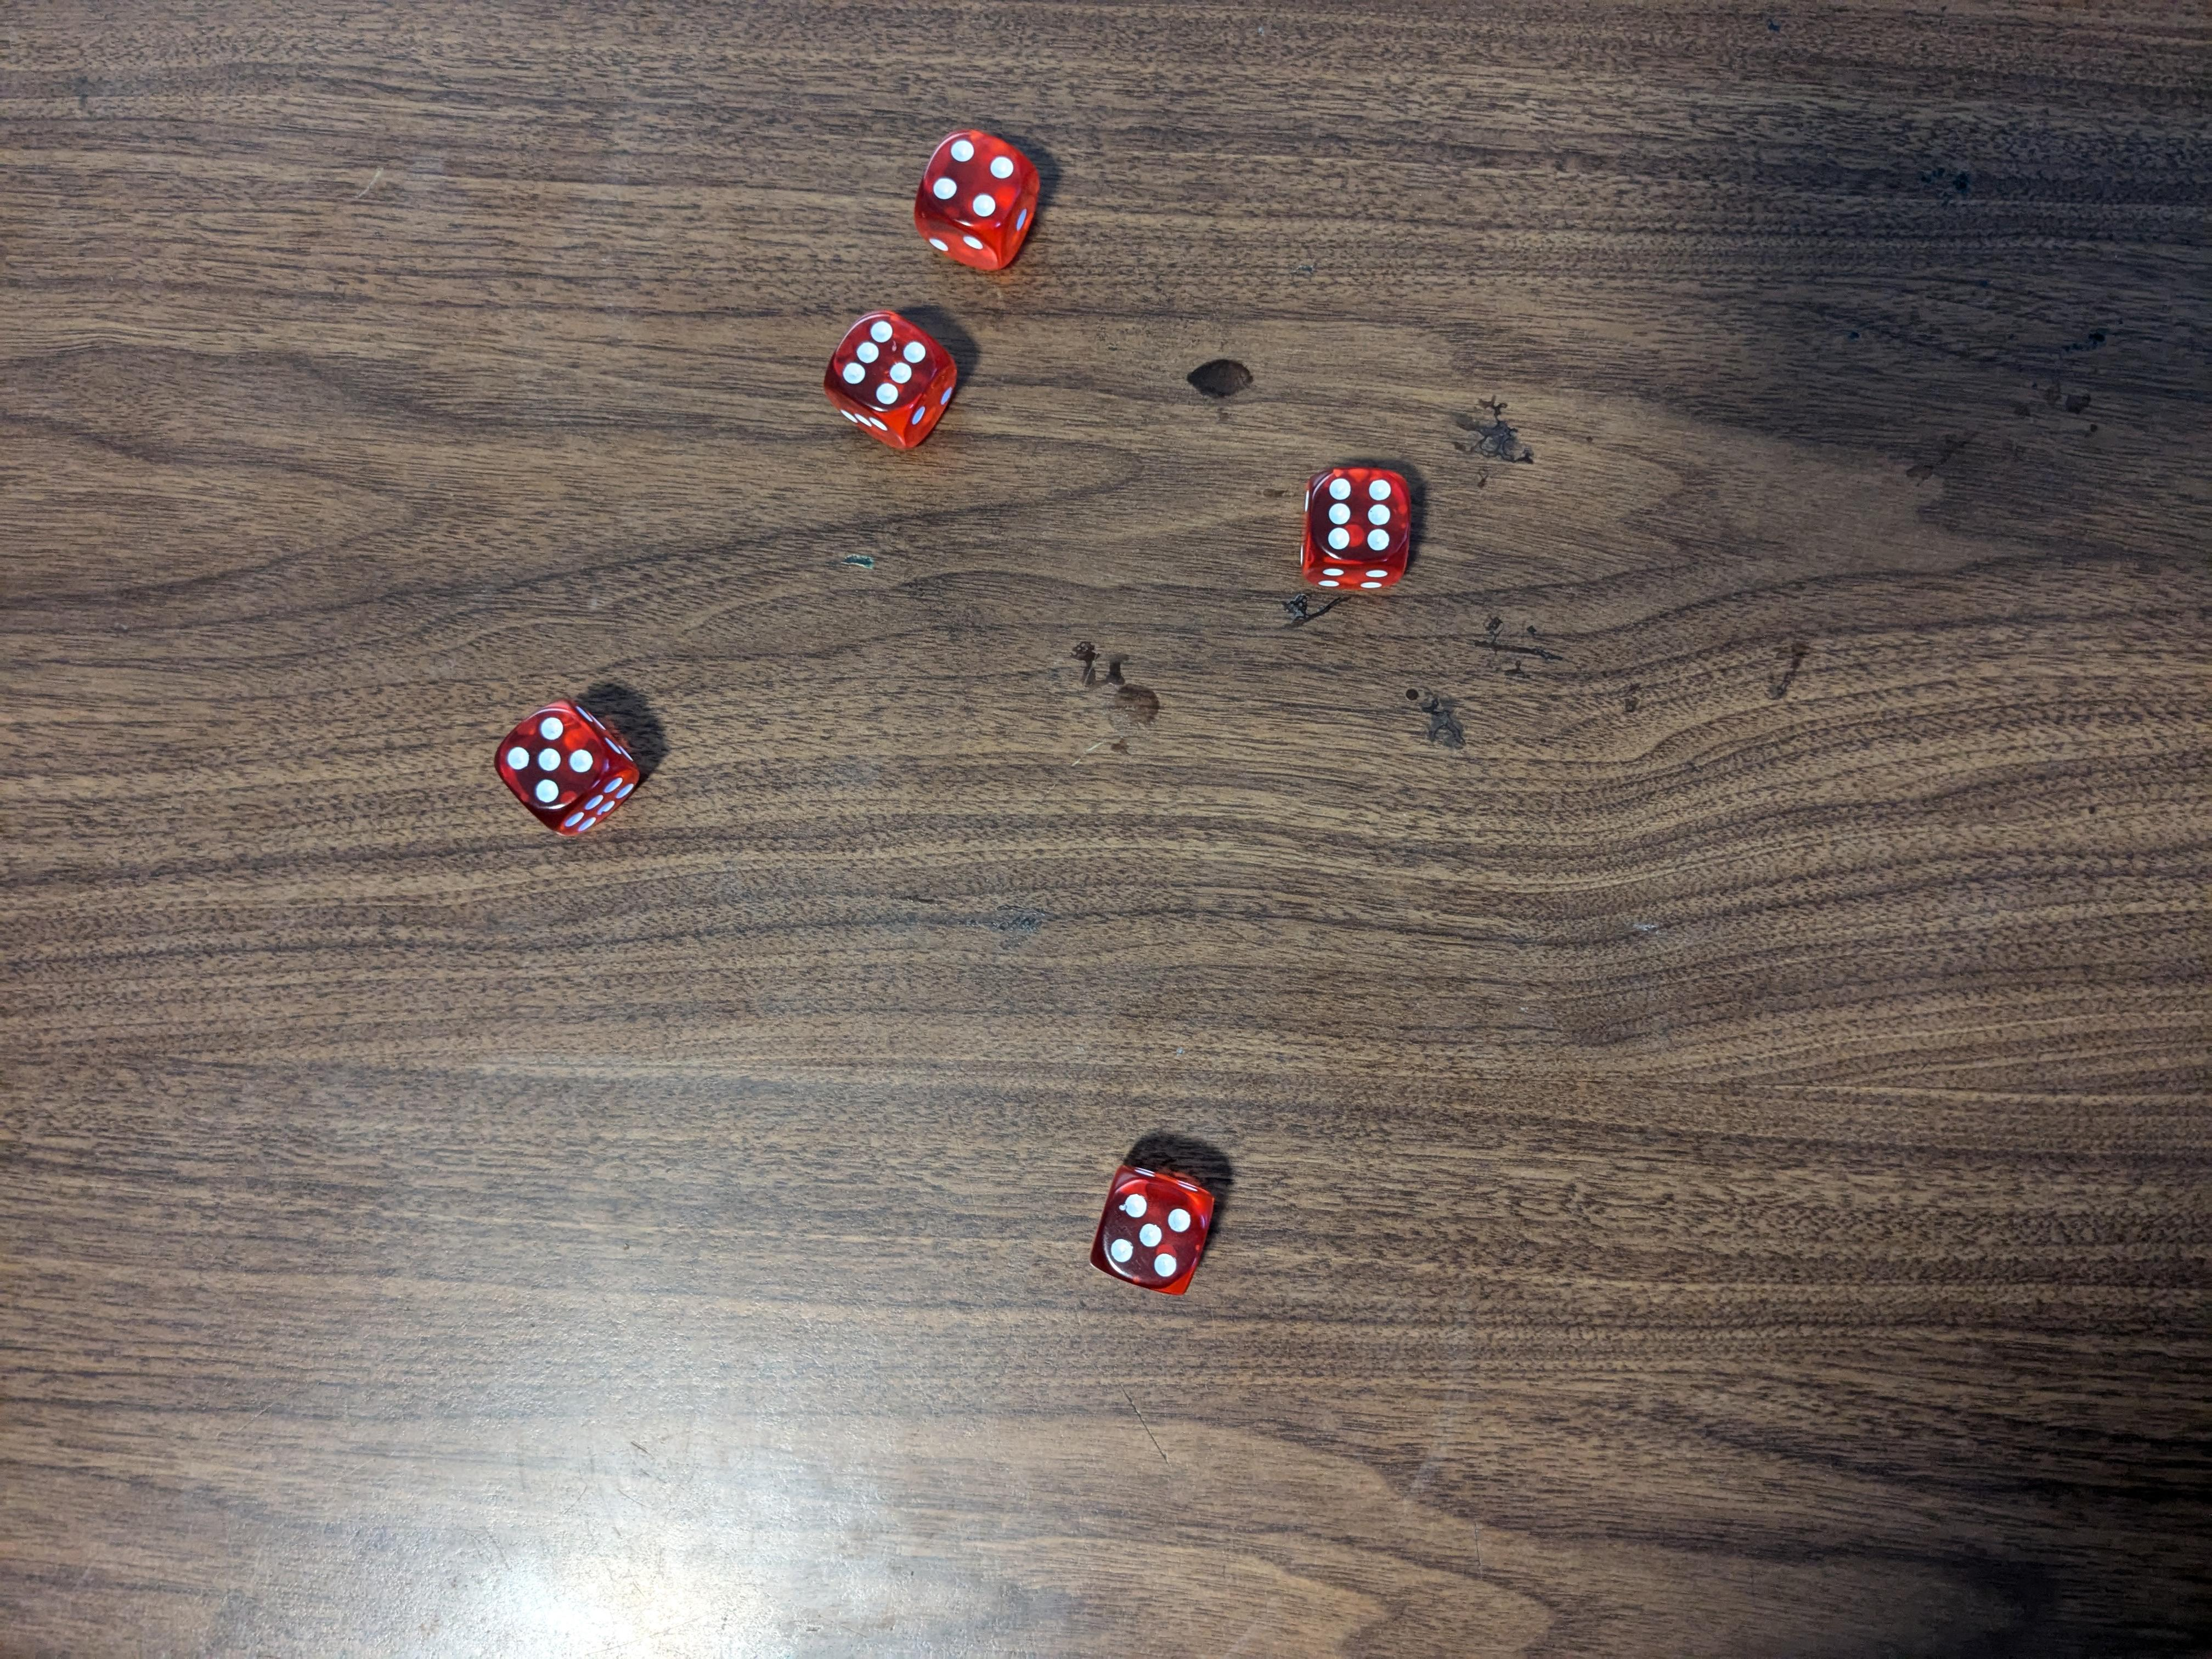five: (493, 697, 644, 843), (1094, 1166, 1214, 1297)
four: (916, 131, 1043, 274)
six: (822, 310, 967, 458), (1299, 460, 1423, 598)
